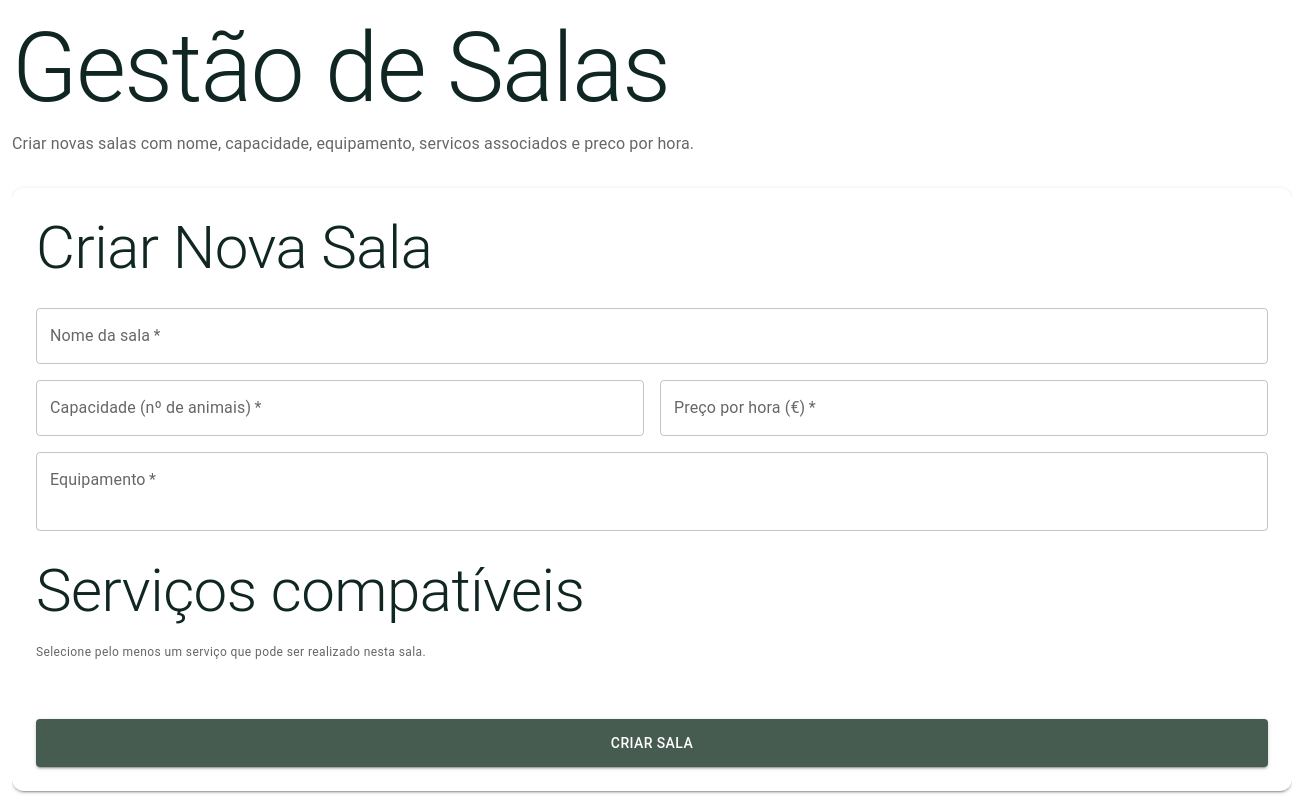
Test: Salas page › mostra erro quando capacidade é negativa
Expected: the heading "Gestão de Salas" is shown, [12, 12, 669, 124]
Step 1. Type "Sala Teste" into the field labelled "Nome da sala *" → (652, 336), box [36, 308, 1268, 364]
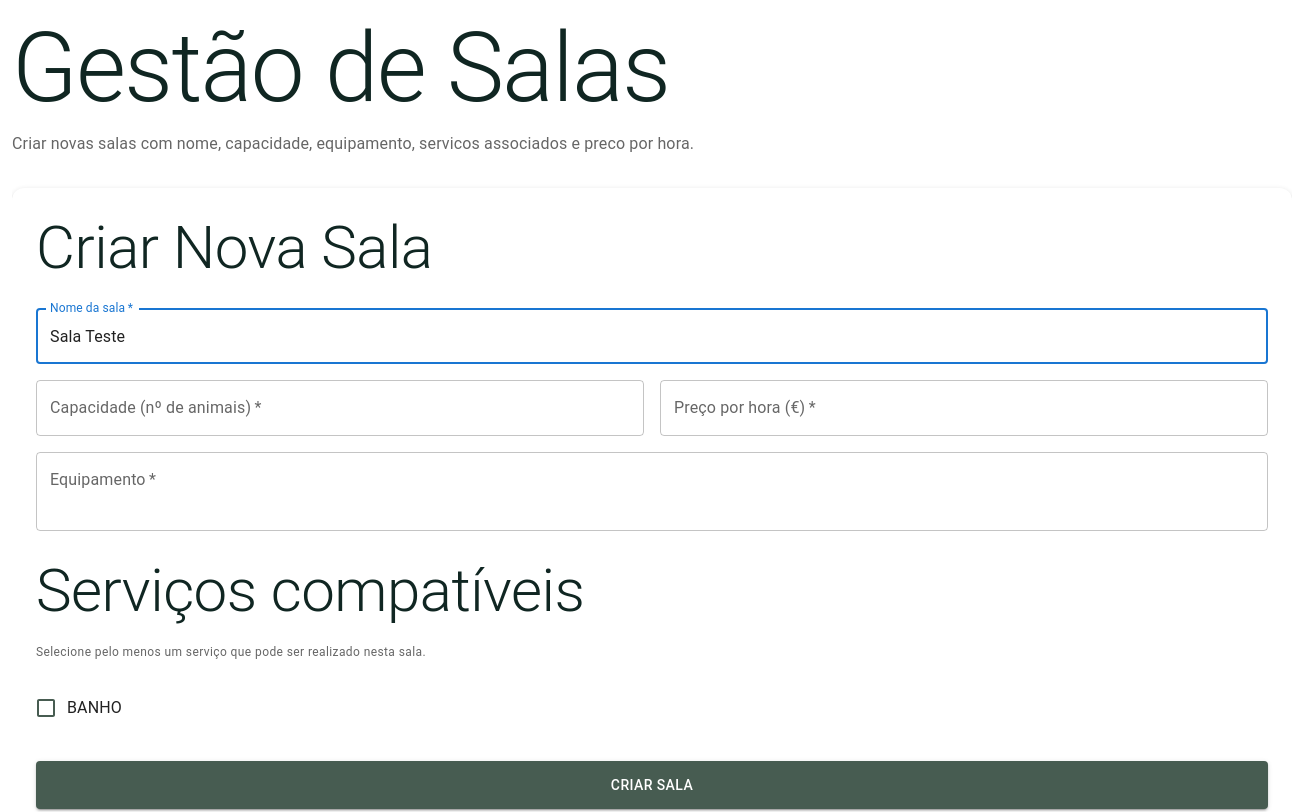
Step 2. Type "-1" into the number field labelled "Capacidade (nº de animais) *" → (340, 408), box [36, 380, 644, 436]
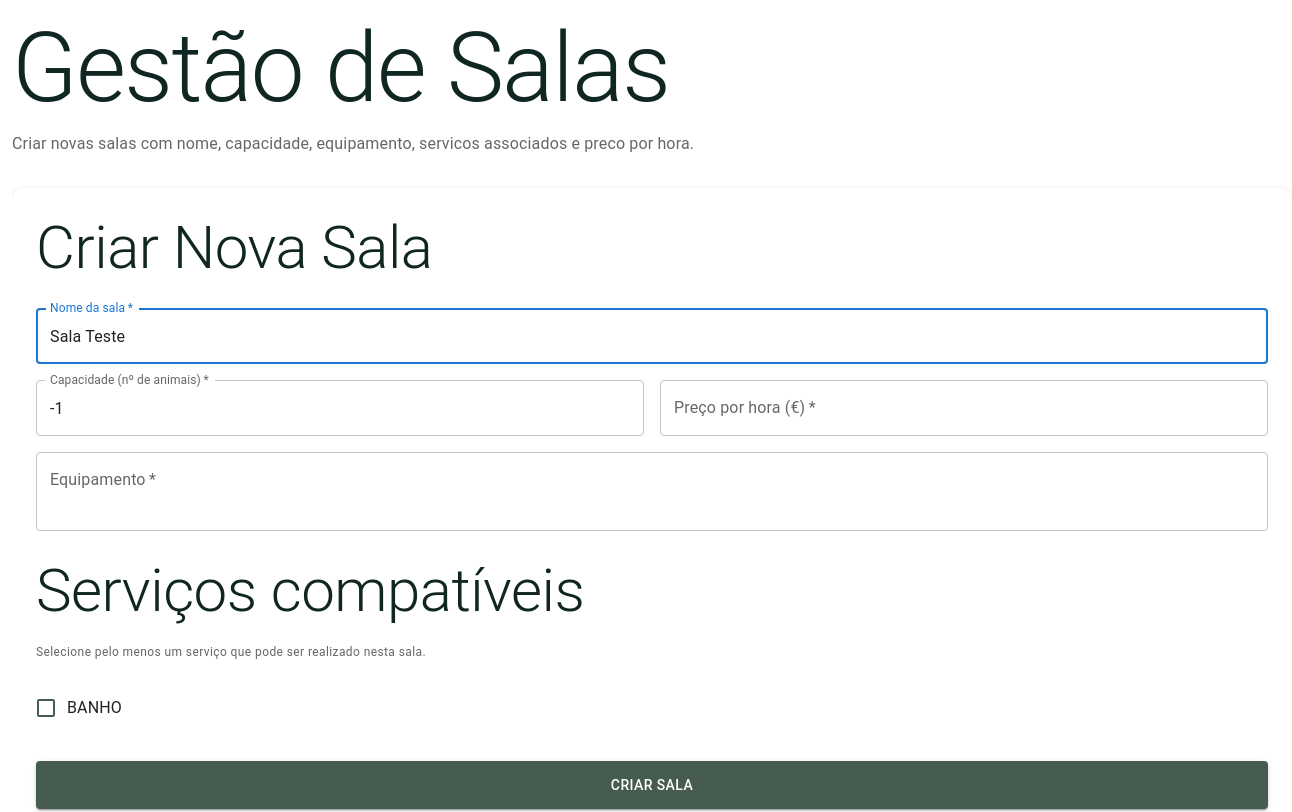
Step 3. Type "Equipamento" into the text box labelled "Equipamento *" → (652, 492), box [50, 468, 1254, 514]
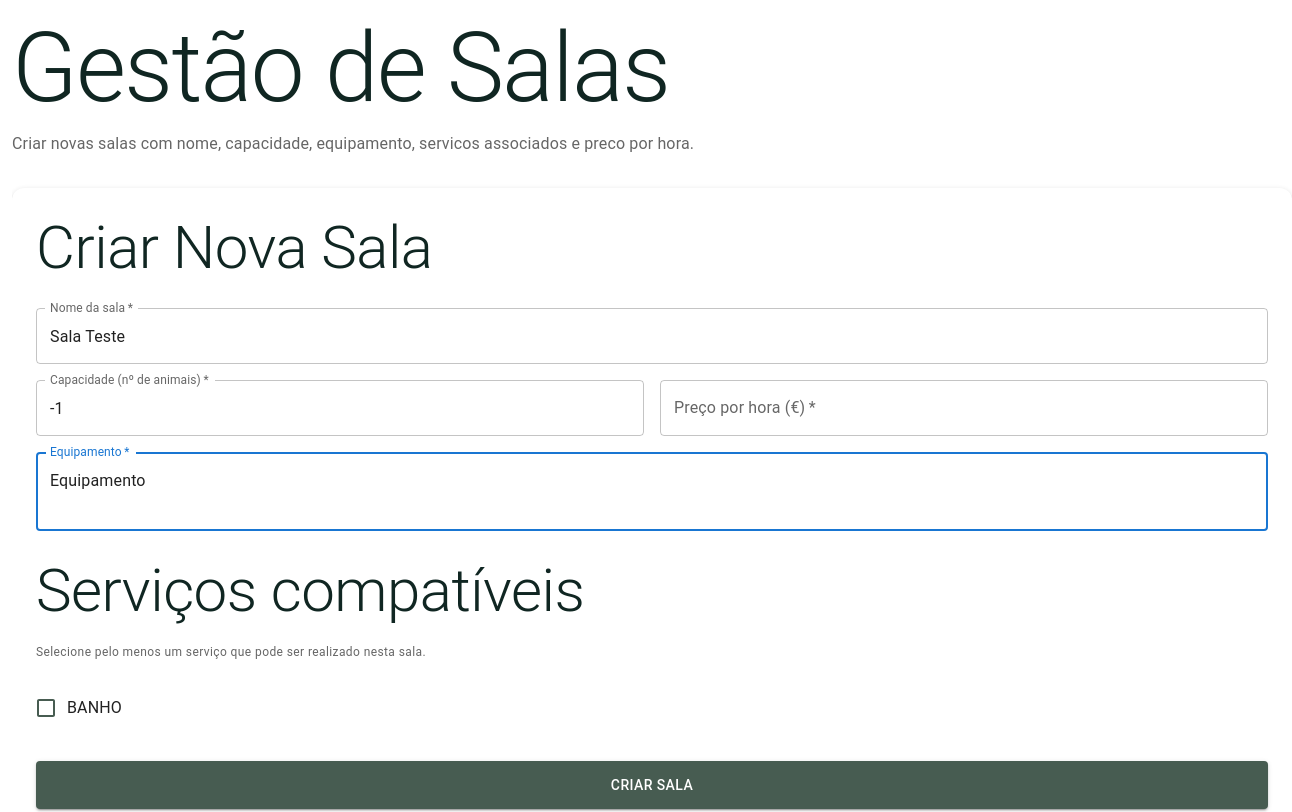
Step 4. Type "10" into the number field labelled "Preço por hora (€) *" → (964, 408), box [660, 380, 1268, 436]
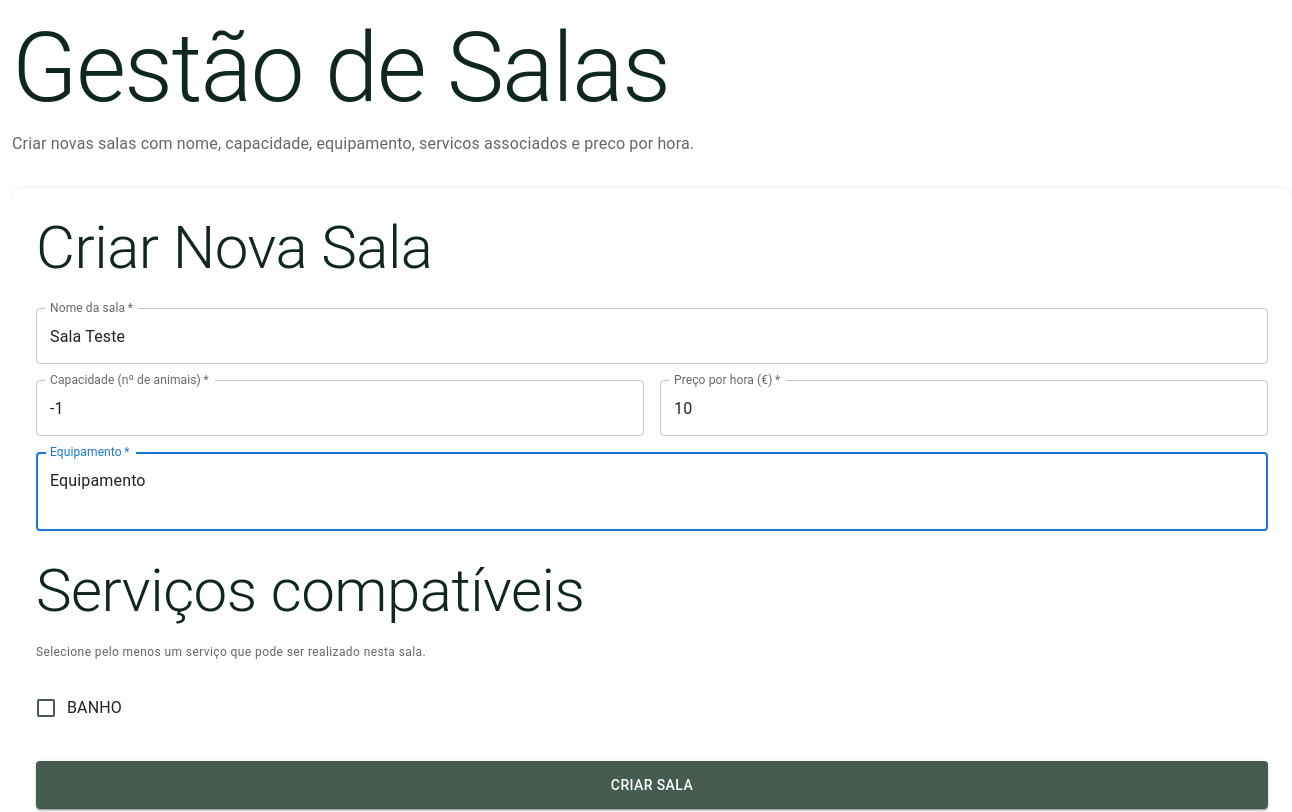
Step 5. Click the checkbox labelled "BANHO" → click(78, 708), box [34, 696, 122, 720]
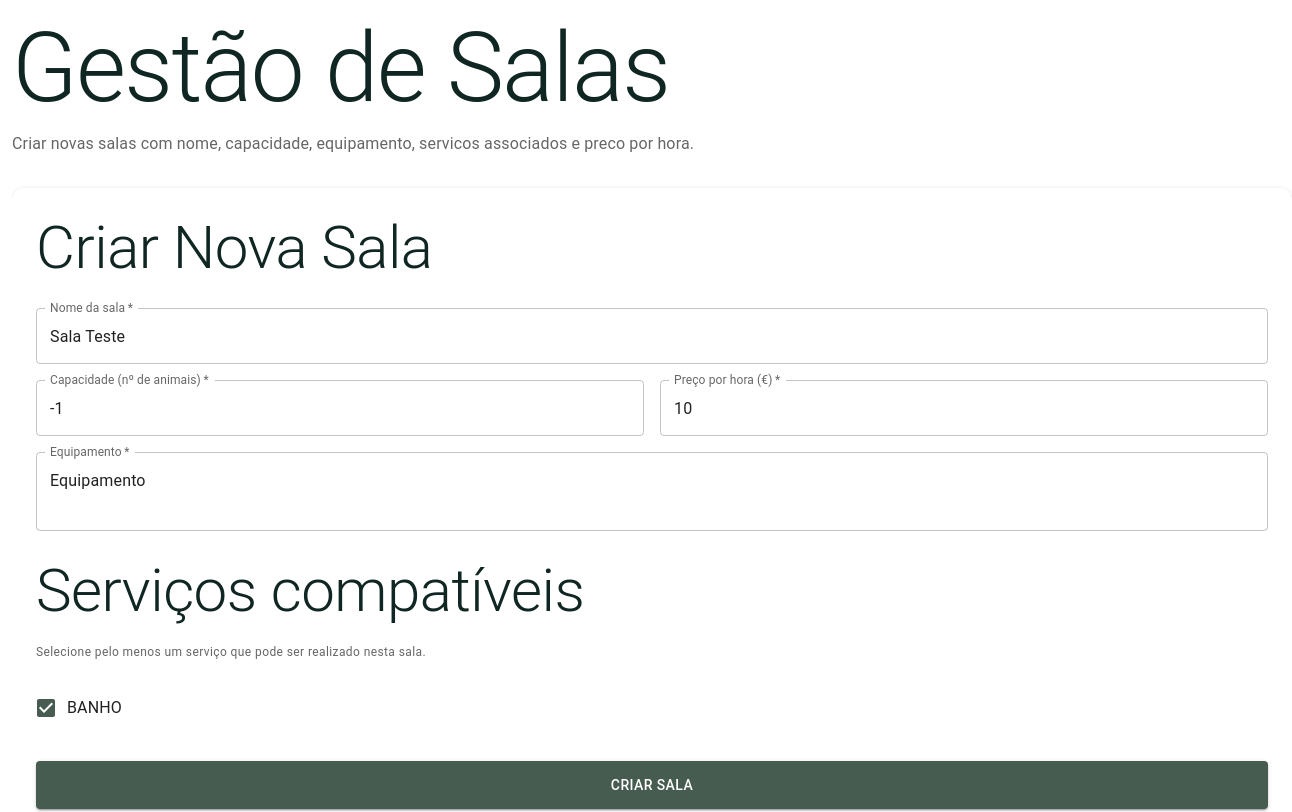
Step 6. Click the button "Criar Sala" → click(652, 785), box [36, 761, 1268, 809]
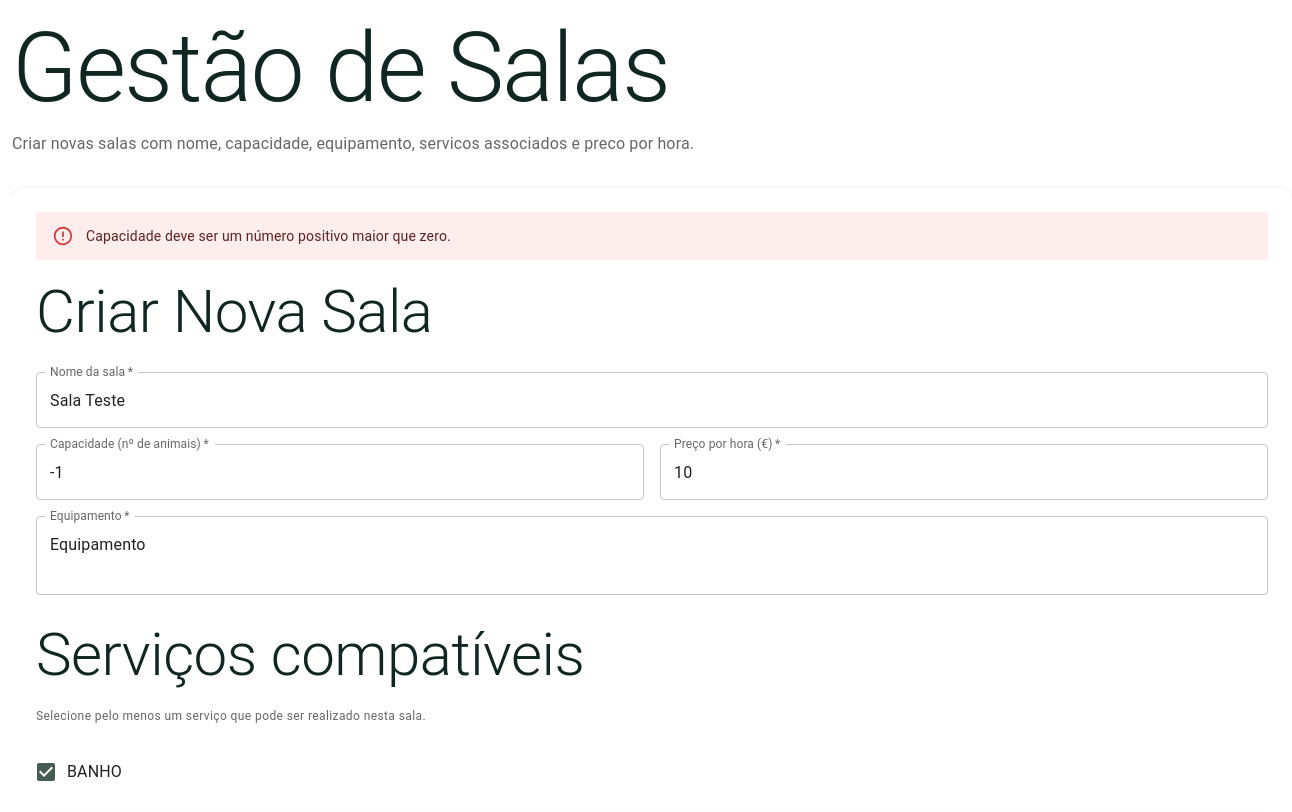
Expected: the text "Capacidade deve ser um número positivo maior que zero." is shown, [86, 228, 451, 244]
